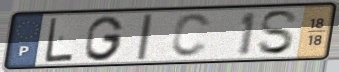1: (238, 10, 258, 58)
C: (168, 11, 213, 59)
G: (83, 14, 127, 62)
I: (135, 12, 155, 62)
L: (44, 16, 76, 64)
S: (255, 9, 301, 57)
